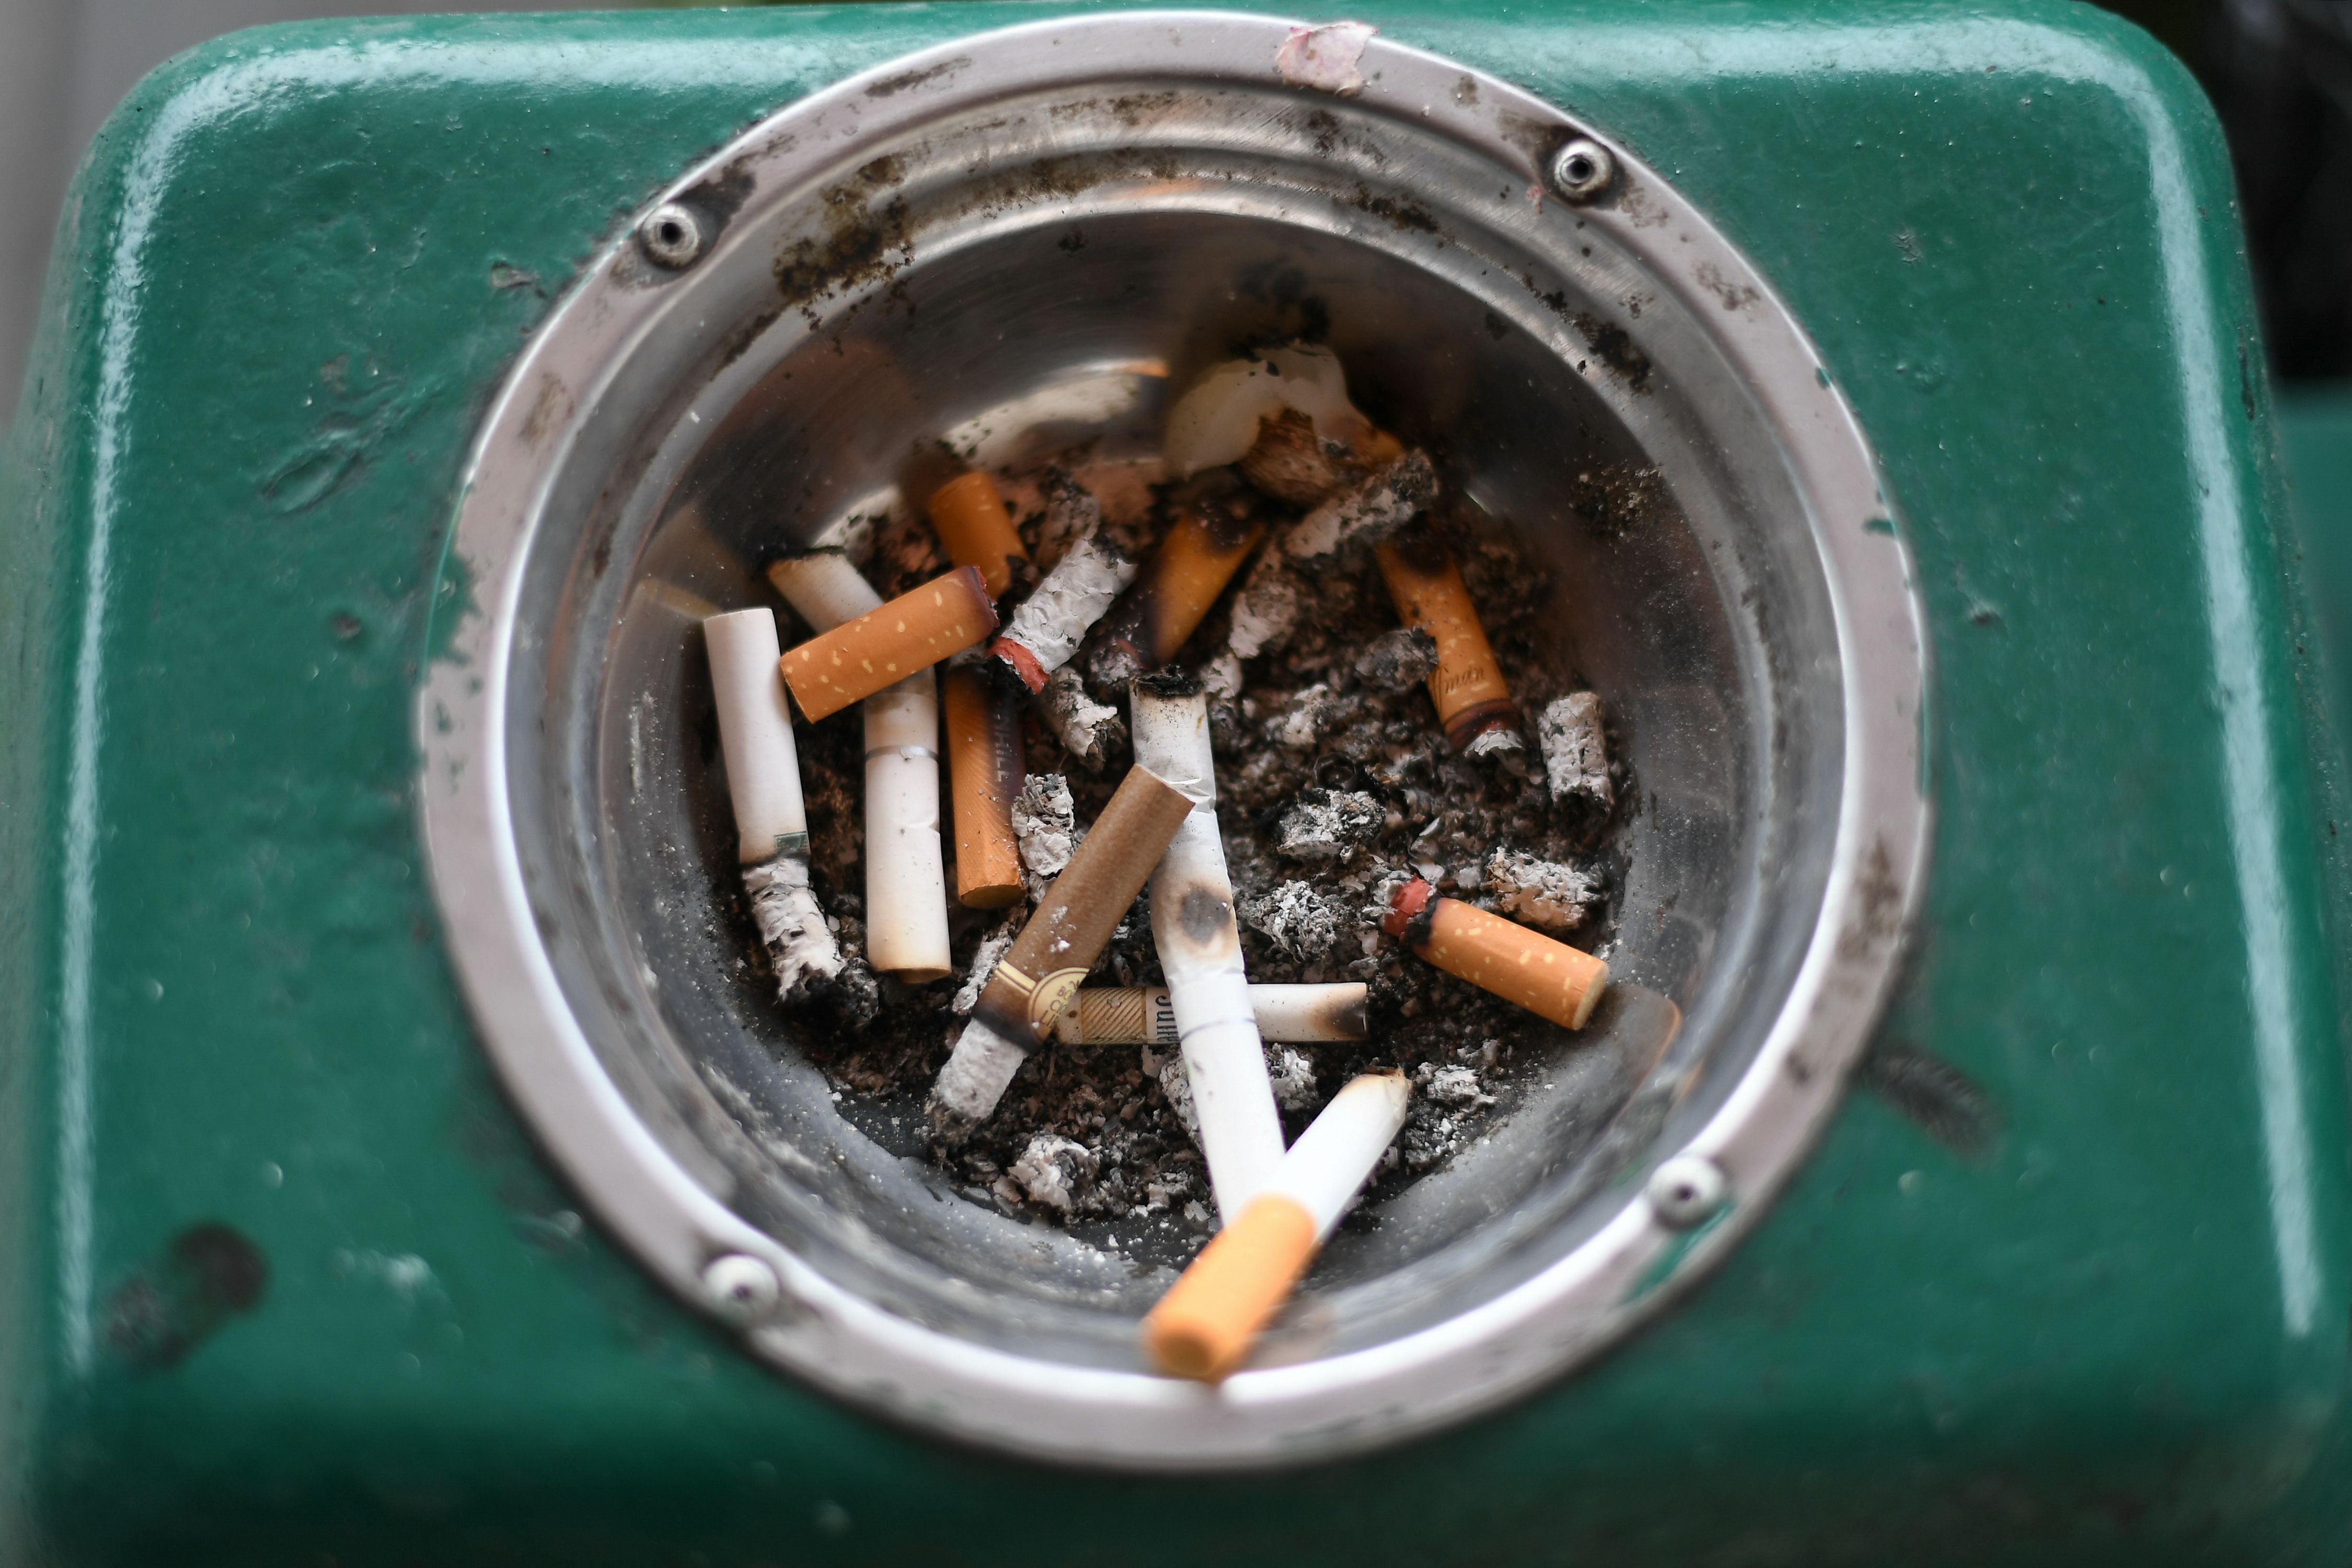cigarette: (1132, 675, 1337, 1218)
